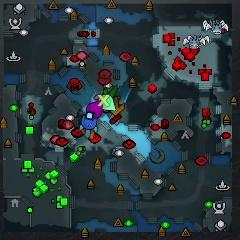Other: (98, 94, 110, 107)
p1: (81, 114, 99, 131)
p2: (100, 95, 115, 111)
p3: (86, 101, 103, 118)
x4: (103, 85, 118, 98)
x5: (111, 97, 124, 115)
